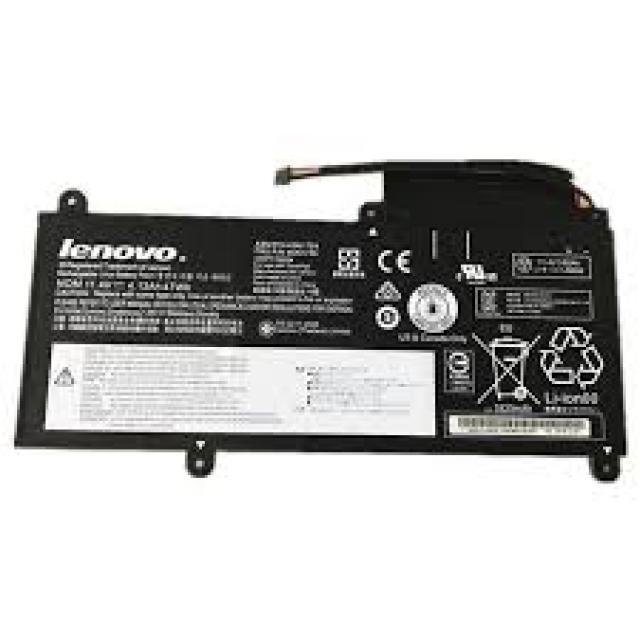battery: (16, 160, 629, 486)
